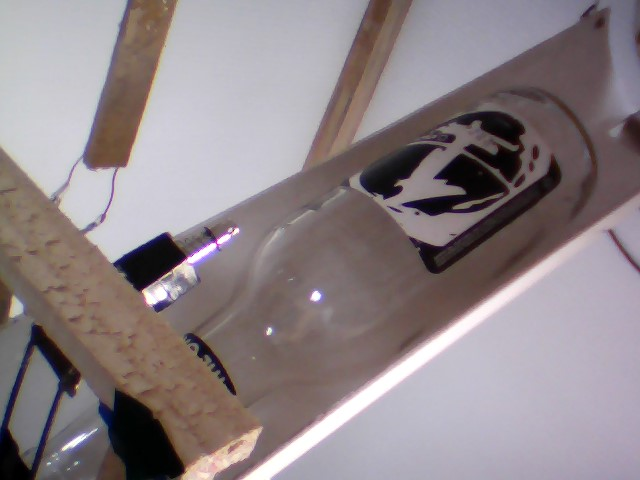vidrio: (172, 77, 601, 419)
